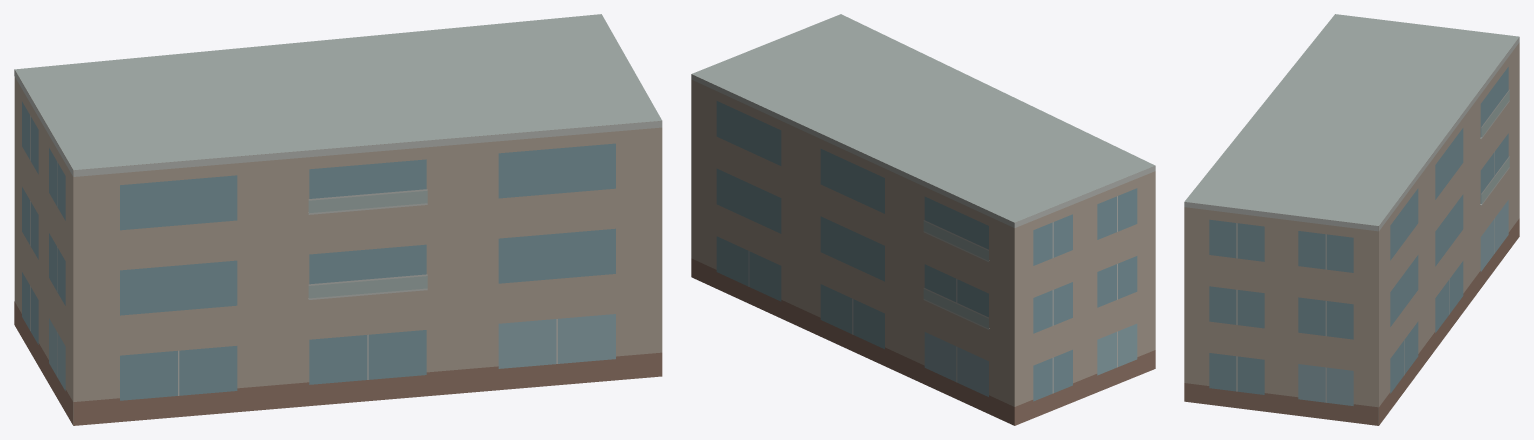
The model's file is survey-upis-32723876.glb.
3 renders of one model, left to right at view 1: azimuth 30°, elevation 25°; view 2: azimuth 150°, elevation 25°; view 3: azimuth 270°, elevation 25°, orthographic. The views are drawn at different scales.
Visible parts, largest first — view 1: survey-upis-32723876.tmp; view 2: survey-upis-32723876.tmp; view 3: survey-upis-32723876.tmp.
Part boxes in pixels (x1,y1,x2,y2): survey-upis-32723876.tmp: (14, 14, 662, 425); survey-upis-32723876.tmp: (691, 14, 1155, 425); survey-upis-32723876.tmp: (1184, 14, 1519, 425).
Bounding box in the file's own units: 20.84 × 9.15 × 13.93.
